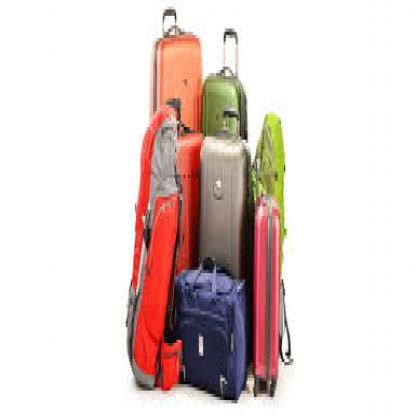maleta: (172, 244, 255, 413), (248, 156, 290, 413), (147, 3, 205, 175), (196, 114, 255, 283), (194, 16, 253, 162), (162, 92, 209, 273)
morral: (125, 89, 188, 403), (256, 86, 304, 372)
